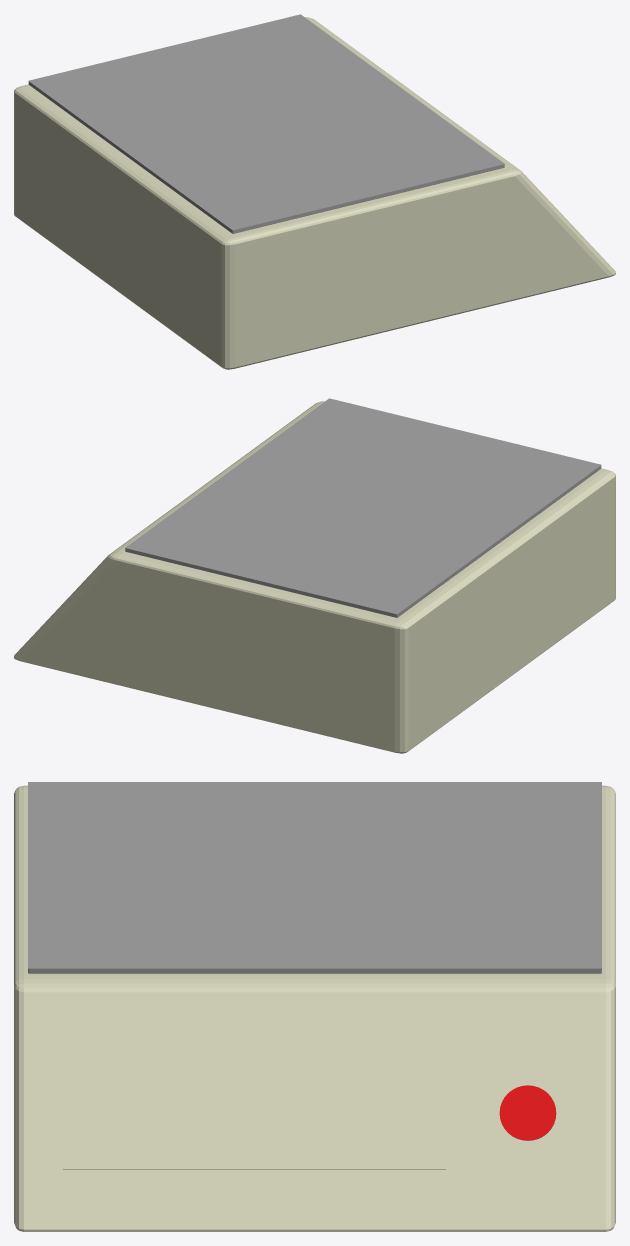
The model's file is Bilancia v3.fbx.
3 renders of one model, top to bottom at view 1: azimuth 30°, elevation 25°; view 2: azimuth 150°, elevation 25°; view 3: azimuth 270°, elevation 25°, orthographic. The views are drawn at different scales.
Visible parts, largest first — view 1: Corpo bilancia, Piano bilancia; view 2: Corpo bilancia, Piano bilancia; view 3: Corpo bilancia, Piano bilancia, Schermo, Tasto.
Boxes of the visible parts, <box> form: Corpo bilancia: <box>14,17,615,369</box>; Piano bilancia: <box>28,14,504,233</box>; Corpo bilancia: <box>14,401,615,753</box>; Piano bilancia: <box>125,398,601,617</box>; Corpo bilancia: <box>14,785,615,1231</box>; Piano bilancia: <box>28,782,601,973</box>; Schermo: <box>63,1051,446,1169</box>; Tasto: <box>499,1085,556,1140</box>.
Bounding box in the file's own units: 318 × 105 × 300.
